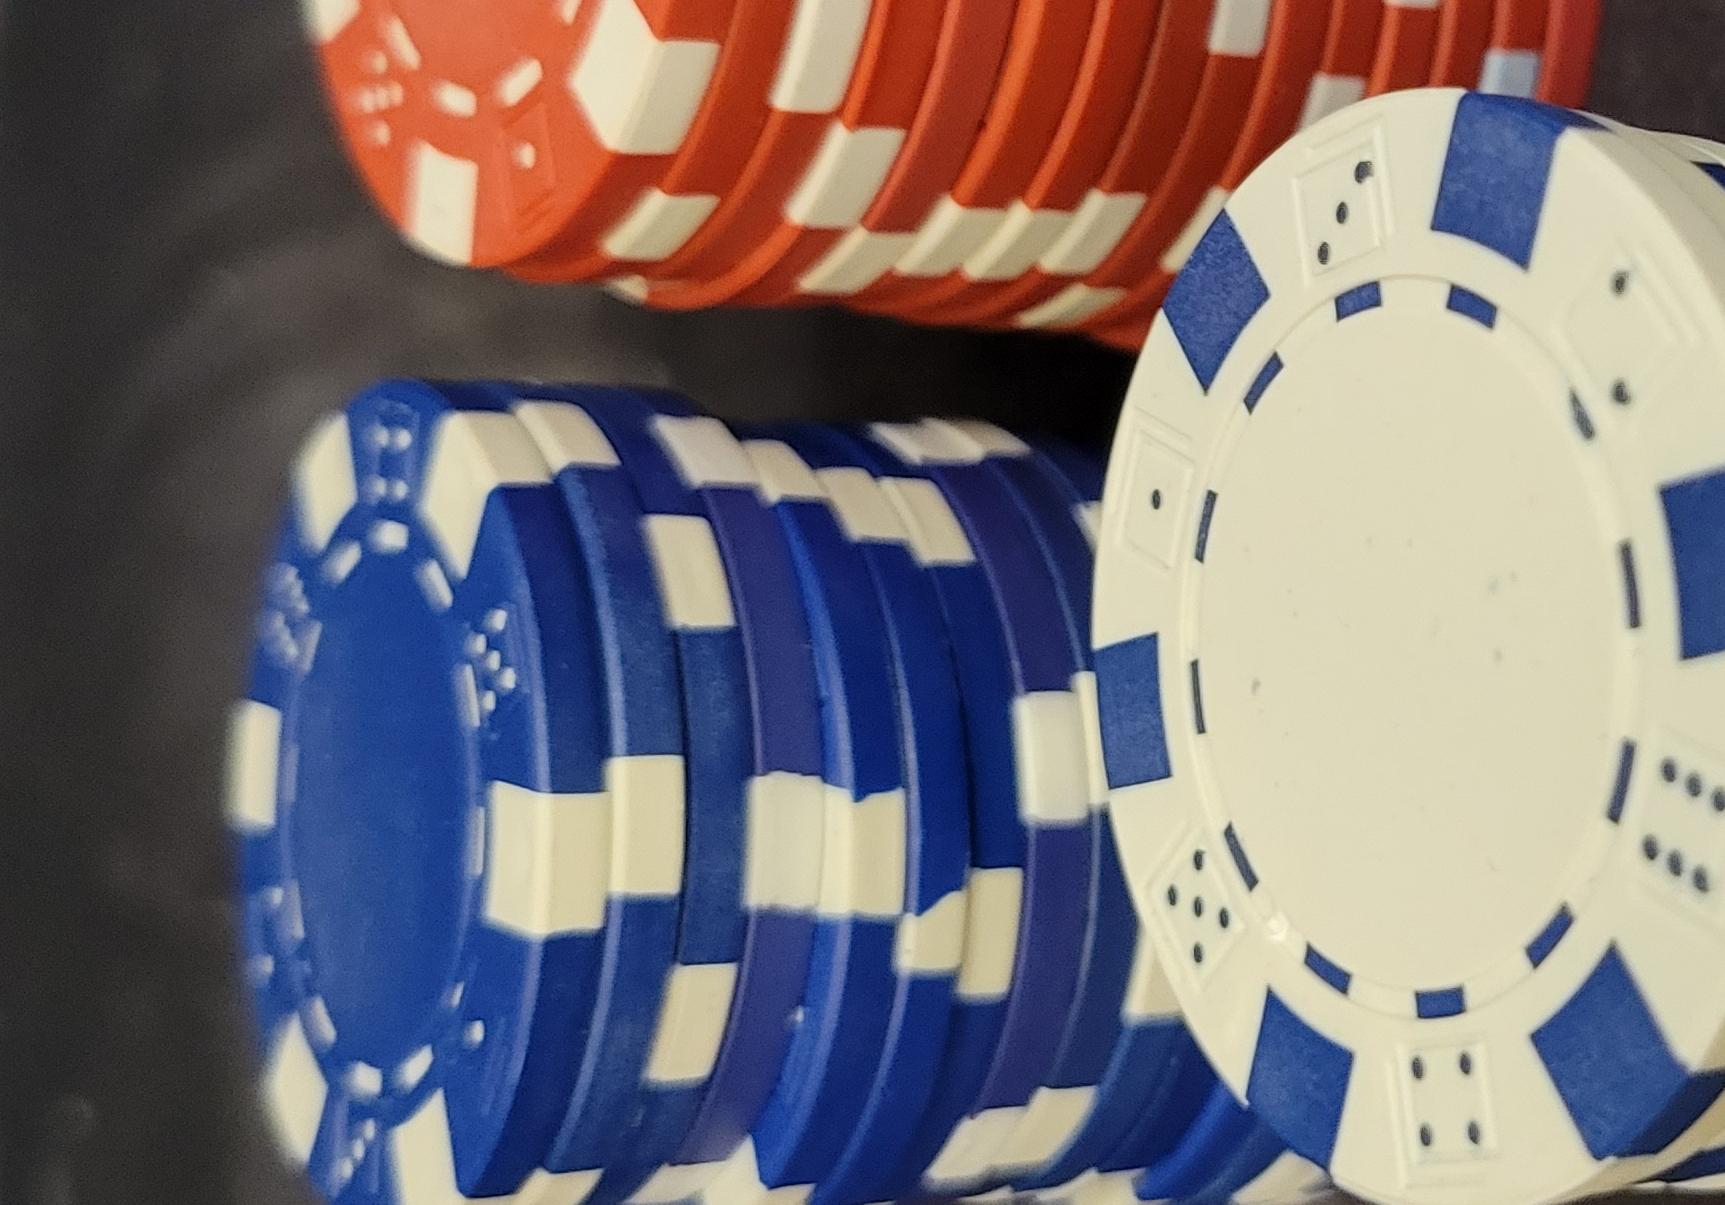Chip: (1, 391, 1119, 1205)
